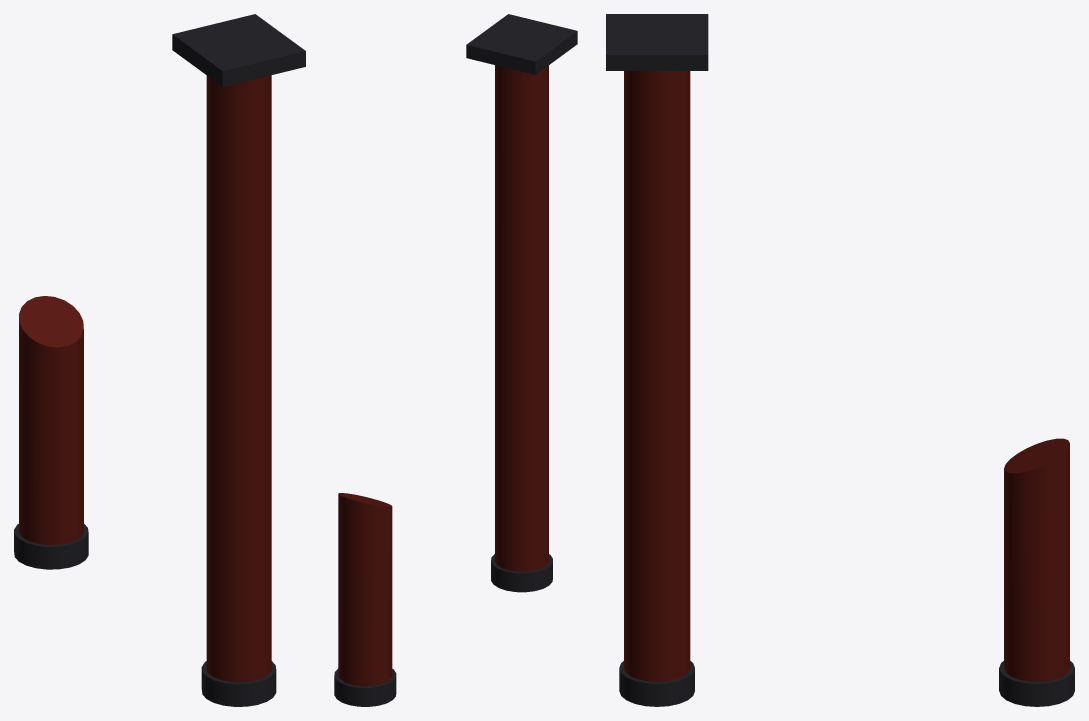
File: column01.fbx
3 views of the same model, side by side, from view 1: azimuth 30°, elevation 25°; view 2: azimuth 150°, elevation 25°; view 3: azimuth 270°, elevation 25° (orthographic). The views are drawn at different scales.
Visible parts, largest first — view 1: column01; view 2: column01; view 3: column01.
Boxes of the visible parts, bbox=[...] form: column01: bbox=[14, 14, 305, 706]; column01: bbox=[334, 14, 577, 706]; column01: bbox=[606, 14, 1074, 706].
Bounding box in the file's own units: 142 × 1063 × 688.
